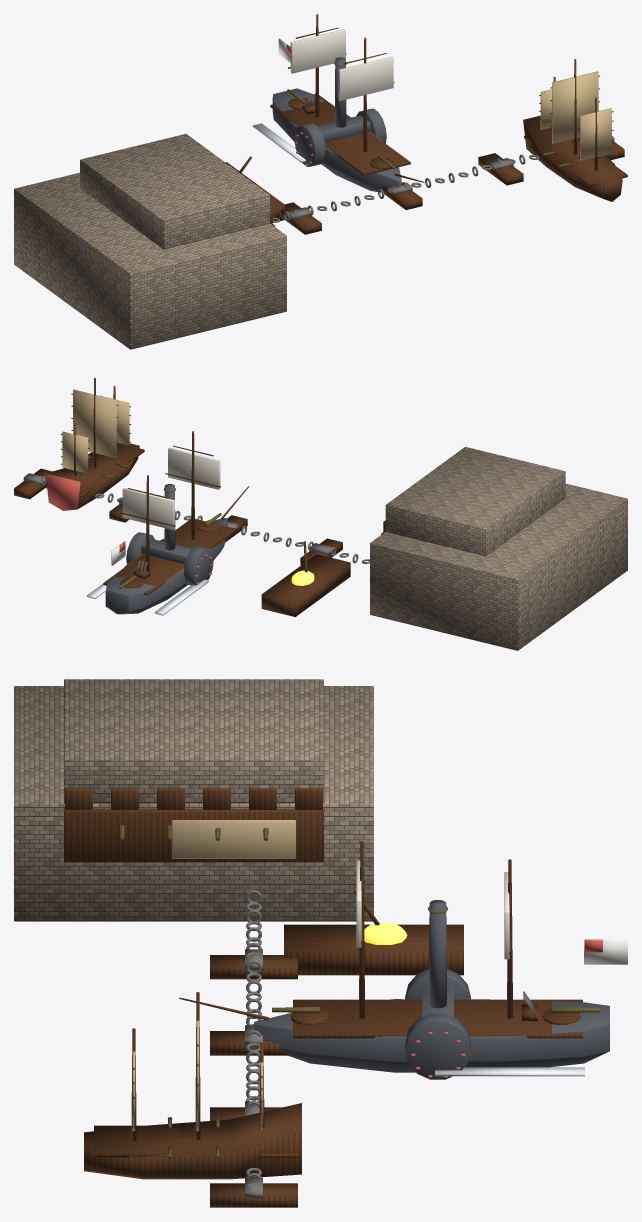
File: humen-squadron-bogue.glb
3 views of the same model, one above another, from view 1: azimuth 30°, elevation 25°; view 2: azimuth 150°, elevation 25°; view 3: azimuth 270°, elevation 25° (orthographic). The views are drawn at different scales.
Parts seen in each view (by area): view 1: AnunghoyBattery_Cliff, Nemesis_Hull, WarJunk_Hull, Pontoons, Sail_Main, Sail_Fore, ChainLinks, Funnel, WakeFoam, Sail_Mizzen; view 2: AnunghoyBattery_Cliff, Nemesis_Hull, WarJunk_Hull, BurningJunk_Hull, Sail_Main, Pontoons, Sail_Mizzen, ChainLinks, WakeFoam, Sail_Fore, Funnel; view 3: AnunghoyBattery_Cliff, Nemesis_Hull, WarJunk_Hull, BurningJunk_Hull, Pontoons, ChainLinks, Funnel, WakeFoam, Ensign.
Part boxes in pixels (bbox=[...]): AnunghoyBattery_Cliff: bbox=[14, 134, 286, 349]; Nemesis_Hull: bbox=[270, 14, 424, 192]; WarJunk_Hull: bbox=[523, 59, 627, 201]; Pontoons: bbox=[281, 136, 624, 234]; Sail_Main: bbox=[550, 71, 599, 143]; Sail_Fore: bbox=[578, 108, 613, 160]; ChainLinks: bbox=[272, 154, 539, 222]; Funnel: bbox=[334, 57, 346, 127]; WakeFoam: bbox=[252, 123, 305, 162]; Sail_Mizzen: bbox=[539, 89, 551, 129]; AnunghoyBattery_Cliff: bbox=[370, 446, 627, 650]; Nemesis_Hull: bbox=[103, 431, 249, 614]; WarJunk_Hull: bbox=[45, 378, 144, 510]; BurningJunk_Hull: bbox=[261, 541, 350, 616]; Sail_Main: bbox=[71, 389, 118, 458]; Pontoons: bbox=[14, 468, 342, 565]; Sail_Mizzen: bbox=[61, 431, 89, 473]; ChainLinks: bbox=[30, 475, 369, 563]; WakeFoam: bbox=[86, 579, 208, 615]; Sail_Fore: bbox=[100, 395, 130, 445]; Funnel: bbox=[163, 484, 175, 550]; AnunghoyBattery_Cliff: bbox=[14, 679, 373, 921]; Nemesis_Hull: bbox=[179, 841, 609, 1079]; WarJunk_Hull: bbox=[84, 992, 301, 1179]; BurningJunk_Hull: bbox=[284, 891, 463, 975]; Pontoons: bbox=[210, 949, 297, 1207]; ChainLinks: bbox=[246, 890, 261, 1186]; Funnel: bbox=[428, 900, 447, 1008]; WakeFoam: bbox=[435, 1067, 584, 1076]; Ensign: bbox=[584, 939, 627, 964].
Bounding box in the file's own units: 49.85 × 12.35 × 30.7.
14 materials, 4 textured.
